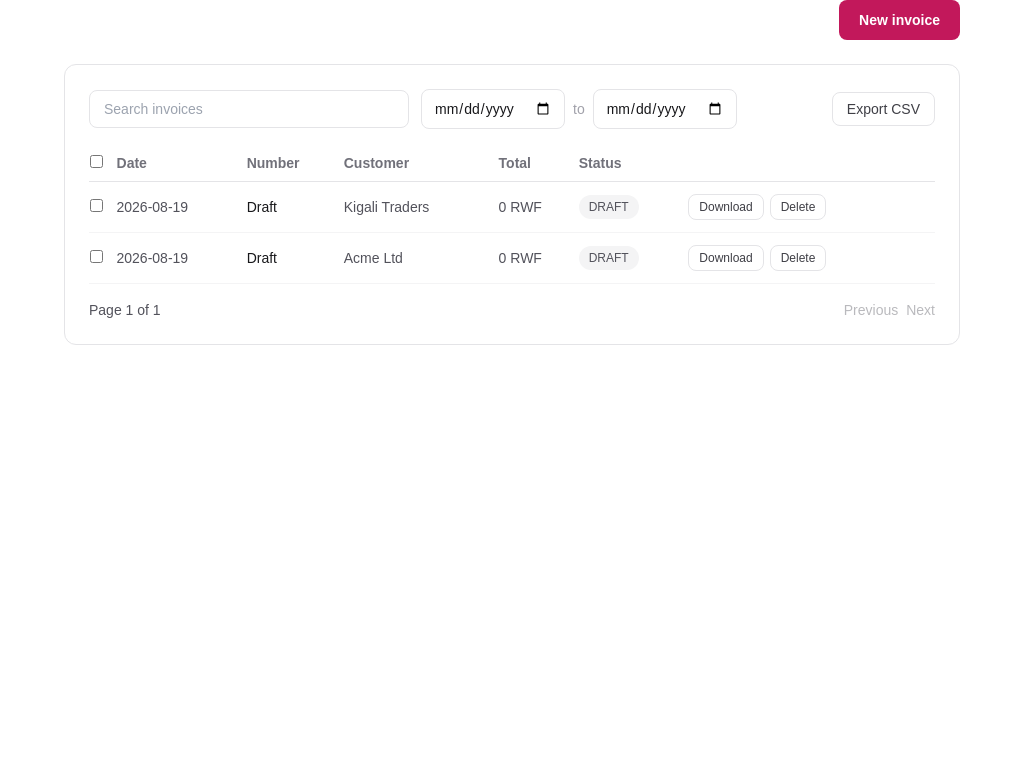
Documents › bulk-deletes selected drafts
Expected: the text "Kigali Traders" is shown, [343, 182, 498, 232]
Click the checkbox named "Select all on this page": (96, 162) [90, 155, 103, 168]
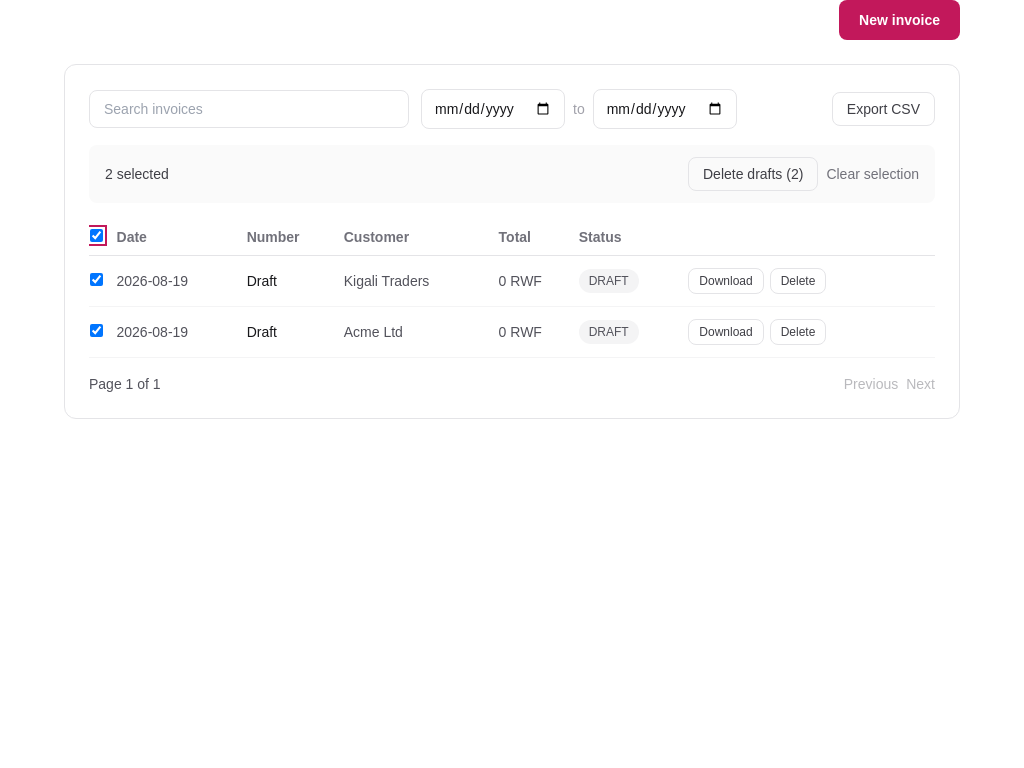
Click the button "Delete drafts (2)": (753, 174) [688, 157, 818, 191]
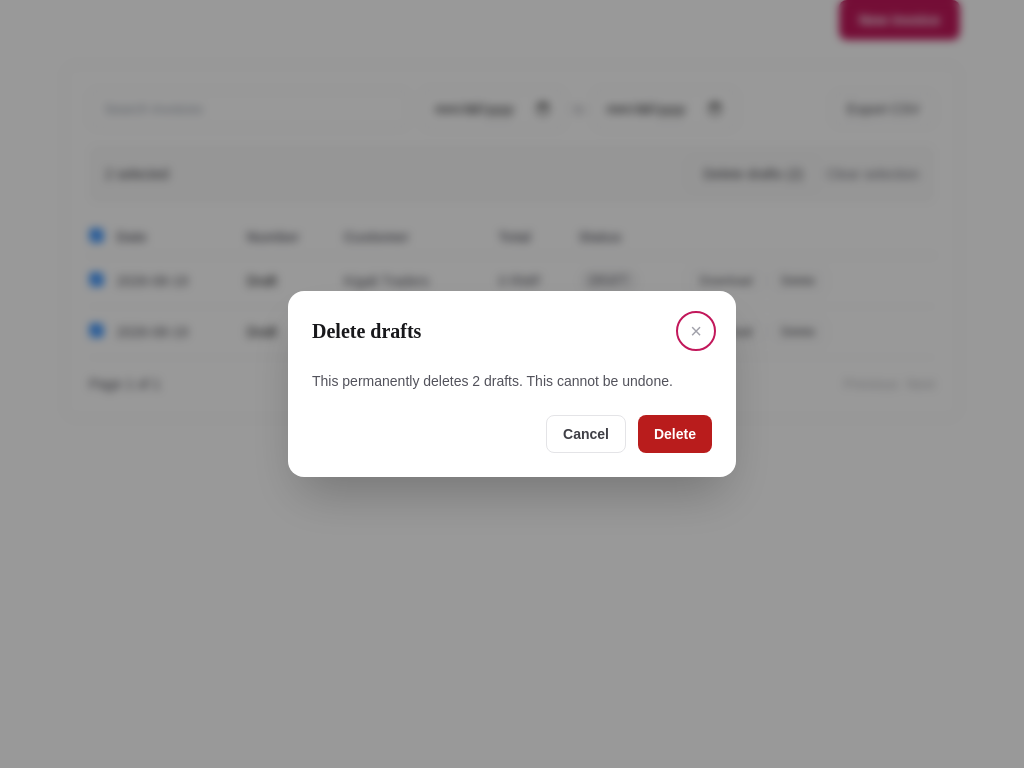
Click the button "Delete": (675, 434) [638, 415, 712, 453]
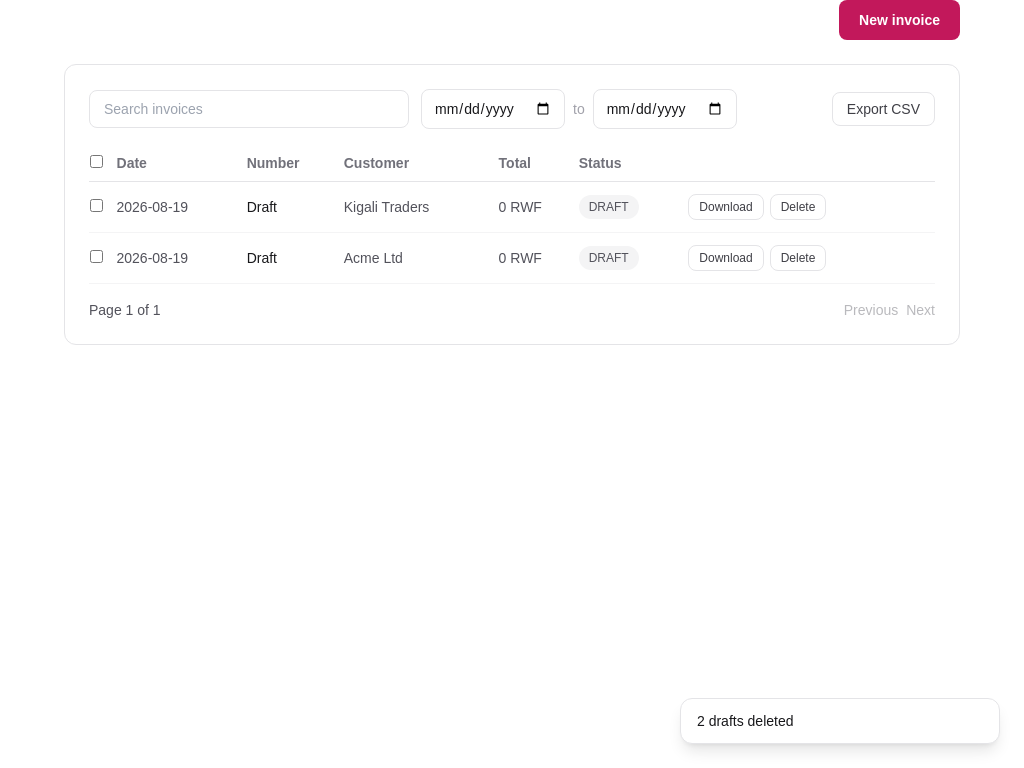
Expected: the text "2 drafts deleted" is shown, [697, 713, 794, 729]
